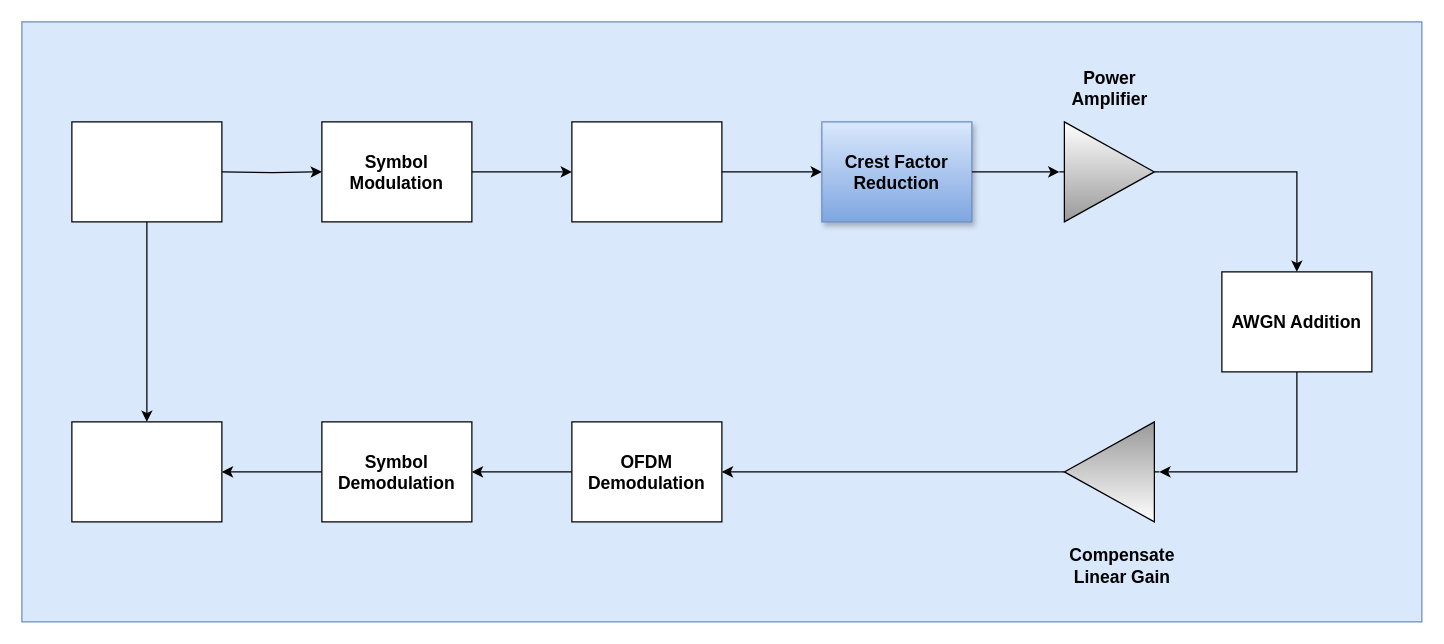
This 1444x644 diagram has some shape labels left out. The shapes that lost their labels are listed below. From the top down, each one's centre as x and y in pixels, then its label:
(146,171): Bit Generation
(646,171): OFDM Modulation
(146,471): BER Calculation
